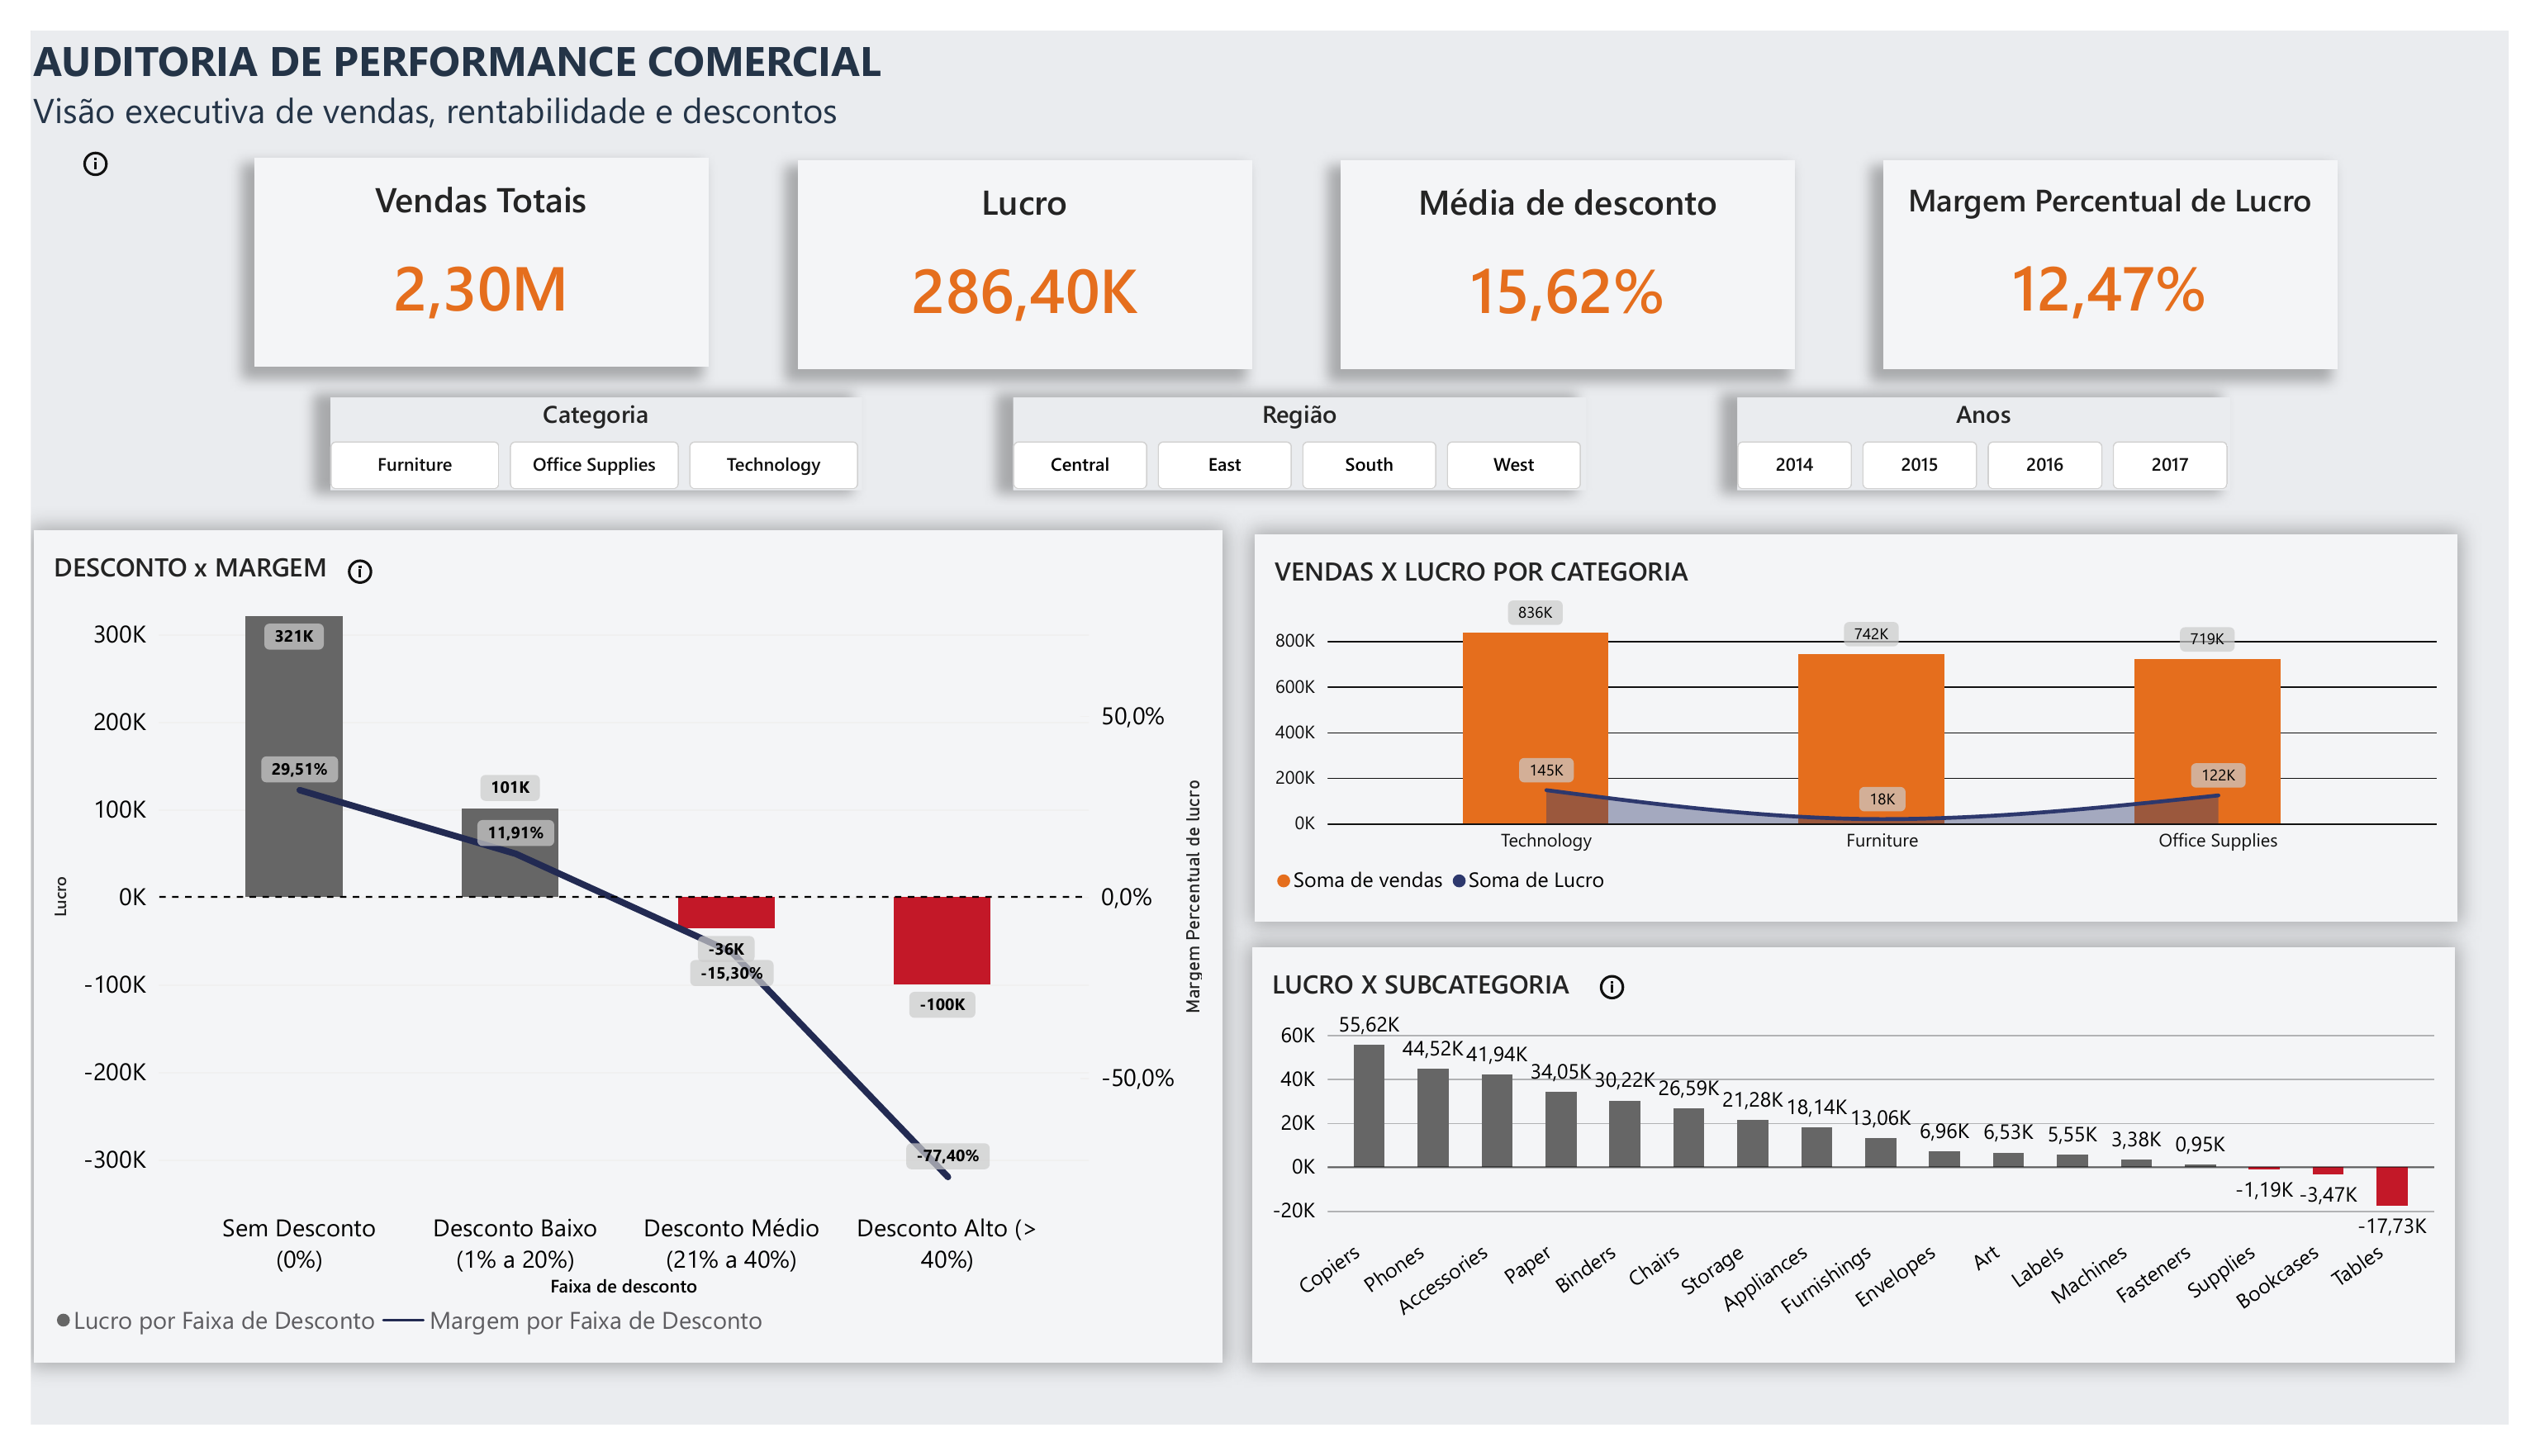

What the dashboard file says about the page in this screenshot:
{"tool":"powerbi","page":{"name":"Auditoria de Performance Comercial","canvas":[1920,1080],"ordinal":0},"visuals":[{"type":"shape","box":[0,0,1920,1080],"z":0},{"type":"advancedSlicerVisual","title":"Categoria","fields":{"Values":["raw_data.Category"]},"box":[232.3,283.9,411.7,71.7],"z":1000},{"type":"advancedSlicerVisual","title":"Anos","fields":{"Values":["raw_data.ano"]},"box":[1322.3,283.9,381.7,71.7],"z":2000},{"type":"card","title":"Vendas Totais","fields":{"Values":["Sum(raw_data.Sales)"]},"box":[173.5,97.6,352,162],"z":3000},{"type":"card","title":"Lucro ","fields":{"Values":["Sum(raw_data.Profit)"]},"box":[594.1,99.6,352,162],"z":4000},{"type":"card","title":"Margem Percentual de Lucro","fields":{"Values":["Tabela1.Margem_Percentual"]},"box":[1435.5,99.6,352,162],"z":5000},{"type":"card","title":"Média de desconto","fields":{"Values":["Tabela1.Media_desconto"]},"box":[1014.8,99.6,352,162],"z":6000},{"type":"advancedSlicerVisual","title":"Região","fields":{"Values":["raw_data.Region"]},"box":[761.5,283.9,443.3,71.7],"z":7000},{"type":"textbox","box":[1.7,0,1056.7,83.3],"z":8000},{"type":"lineClusteredColumnComboChart","title":"VENDAS X LUCRO POR CATEGORIA","fields":{"Category":["raw_data.Category"],"Y":["Tabela1.Soma de vendas"],"Y2":["Tabela1.Soma de Lucro"]},"box":[947.5,390,932.5,300],"z":9000},{"type":"actionButton","box":[0,82.5,100,40],"z":10000},{"type":"clusteredColumnChart","title":"LUCRO X SUBCATEGORIA","fields":{"Category":["raw_data.Sub-Category"],"Y":["Faixas Desconto.Lucro por Faixa de Desconto"]},"box":[946,710,932,322],"z":13000},{"type":"lineClusteredColumnComboChart","title":"DESCONTO x MARGEM","fields":{"Category":["Faixas Desconto.Faixa"],"Y":["Faixas Desconto.Lucro por Faixa"],"Y2":["Faixas Desconto.Margem por Faixa"]},"box":[1.7,386.7,921.7,645],"z":14000},{"type":"actionButton","box":[1191.2,721.2,66.2,40],"z":15500},{"type":"actionButton","box":[232.9,402.9,42.9,31.4],"z":16000}]}

Visuals, with their boxes on the page's 1920x1080 design canvas (x1, y1, x2, y2). These are canvas units, not pixel positions in the 2540x1456 screenshot, which may show the page scaled, cropped or inside an application window:
shape: <box>0,0,1920,1080</box>
"Categoria" advancedSlicerVisual: <box>232,284,644,356</box>
"Anos" advancedSlicerVisual: <box>1322,284,1704,356</box>
"Vendas Totais" card: <box>174,98,526,260</box>
"Lucro " card: <box>594,100,946,262</box>
"Margem Percentual de Lucro" card: <box>1436,100,1788,262</box>
"Média de desconto" card: <box>1015,100,1367,262</box>
"Região" advancedSlicerVisual: <box>762,284,1205,356</box>
textbox: <box>2,0,1058,83</box>
"VENDAS X LUCRO POR CATEGORIA" lineClusteredColumnComboChart: <box>948,390,1880,690</box>
actionButton: <box>0,82,100,122</box>
"LUCRO X SUBCATEGORIA" clusteredColumnChart: <box>946,710,1878,1032</box>
"DESCONTO x MARGEM" lineClusteredColumnComboChart: <box>2,387,923,1032</box>
actionButton: <box>1191,721,1257,761</box>
actionButton: <box>233,403,276,434</box>
